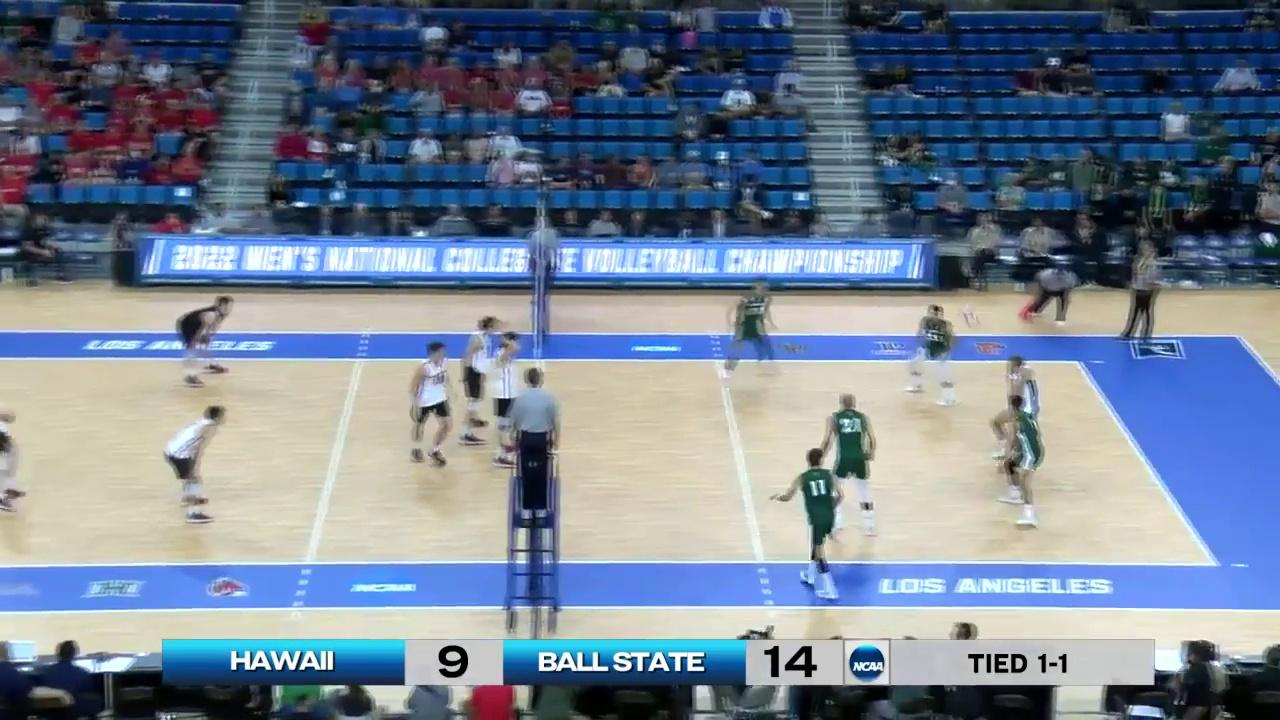player: (769, 449, 841, 604), (818, 390, 881, 531), (989, 393, 1044, 529), (165, 407, 225, 525), (175, 293, 239, 387), (721, 279, 781, 378), (408, 343, 453, 470), (993, 354, 1042, 469), (458, 314, 498, 444), (906, 304, 957, 404), (491, 331, 525, 467)
refree: (507, 369, 562, 520), (1021, 265, 1079, 331), (529, 218, 561, 306)
